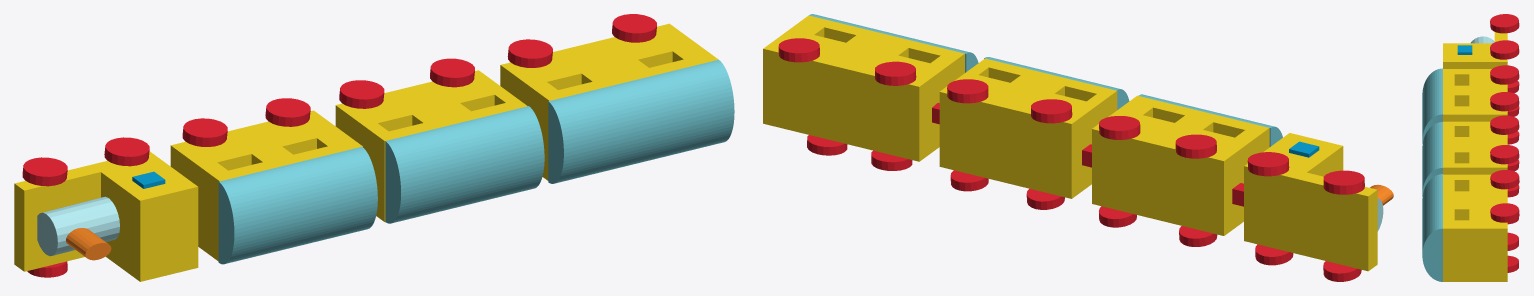
Rendered from tinker.obj.
3 renders of one model, left to right at view 1: azimuth 30°, elevation 25°; view 2: azimuth 150°, elevation 25°; view 3: azimuth 270°, elevation 25°, orthographic. The views are drawn at different scales.
Parts seen in each view (by area): view 1: group_0_7720667, group_0_16768282, group_0_15277357, group_0_11593967, group_0_16089887; view 2: group_0_16768282, group_0_15277357, group_0_7720667; view 3: group_0_16768282, group_0_15277357, group_0_7720667, group_0_40919, group_0_11593967.
Part boxes in pixels (left/top/right/bottom): group_0_7720667: left=218, top=59, right=734, bottom=264; group_0_16768282: left=14, top=23, right=718, bottom=281; group_0_15277357: left=22, top=14, right=656, bottom=277; group_0_11593967: left=37, top=196, right=119, bottom=256; group_0_16089887: left=66, top=228, right=111, bottom=260; group_0_16768282: left=763, top=15, right=1377, bottom=271; group_0_15277357: left=778, top=38, right=1364, bottom=281; group_0_7720667: left=809, top=14, right=1282, bottom=146; group_0_16768282: left=1443, top=32, right=1507, bottom=281; group_0_15277357: left=1490, top=14, right=1519, bottom=272; group_0_7720667: left=1422, top=68, right=1442, bottom=281; group_0_40919: left=1457, top=45, right=1472, bottom=54; group_0_11593967: left=1471, top=36, right=1494, bottom=43.
Bounding box in the file's own units: 169 × 26 × 33.07.
